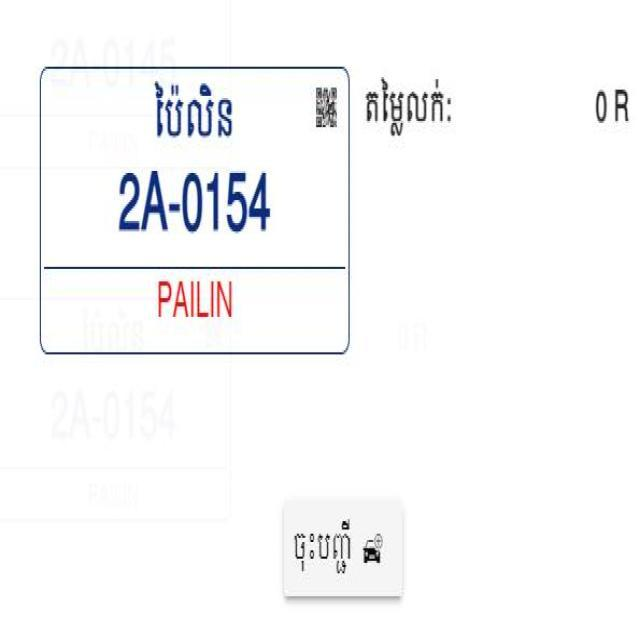Pailin: (146, 65, 239, 152)
